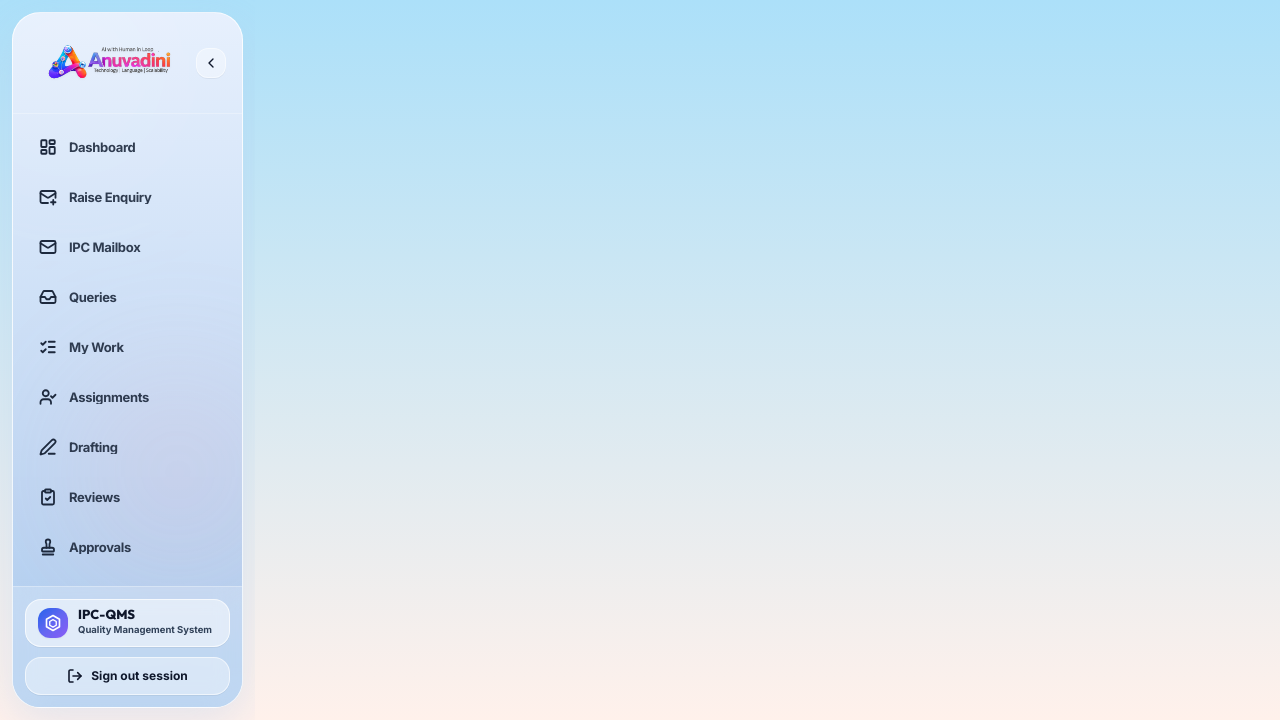
collapsing and expanding › persists the choice and rehydrates from it
Click the button named "Collapse sidebar" at coordinates (211, 63), box x1=196 y1=48 x2=226 y2=78
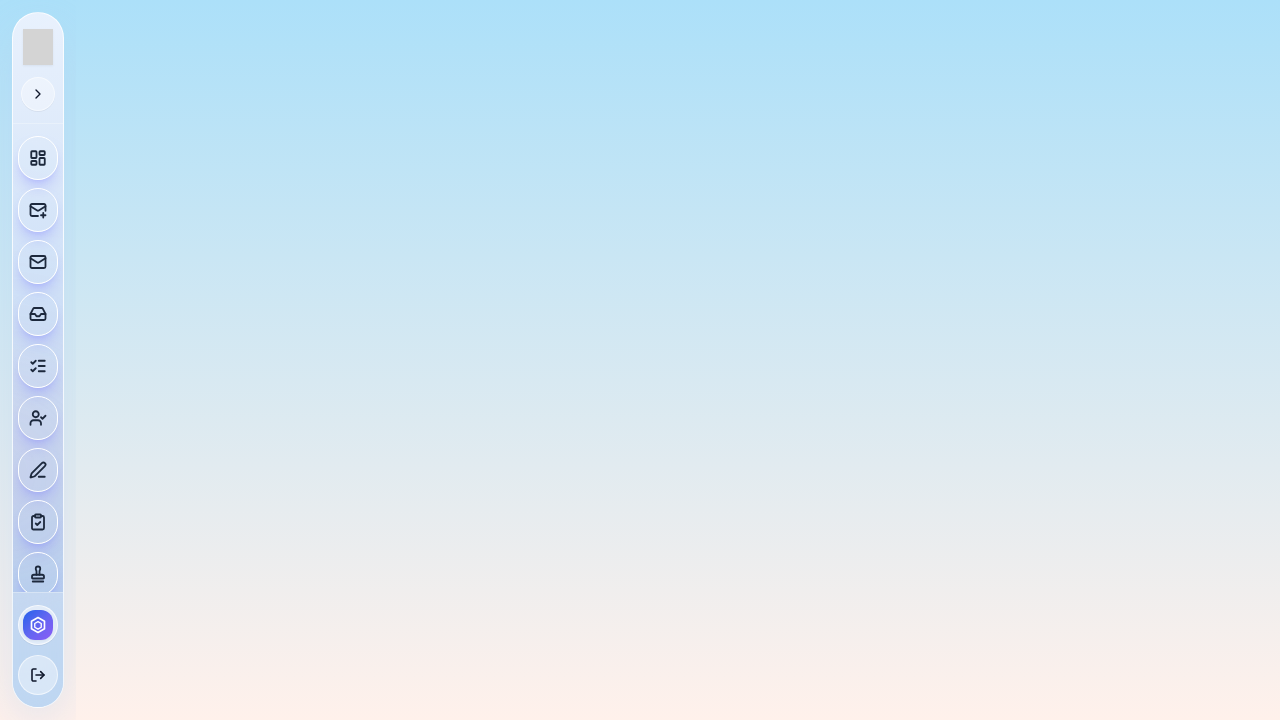
Result: the button named "Expand sidebar" is shown at x1=21 y1=77 x2=55 y2=111
